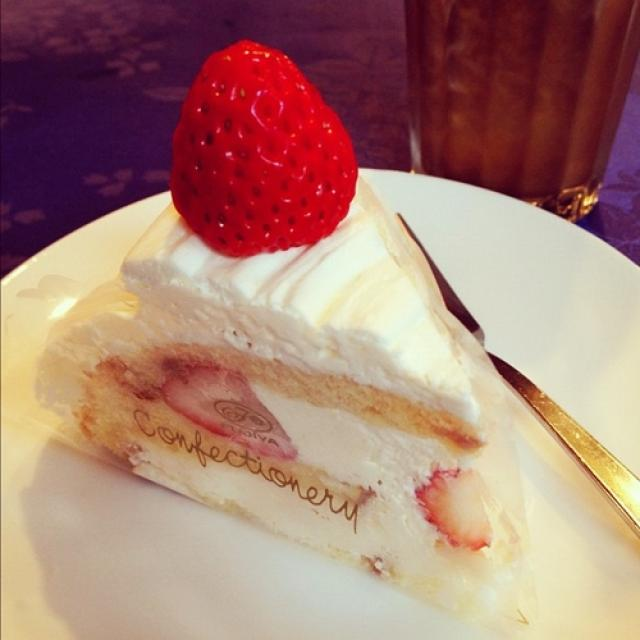蛋糕甜品: (33, 32, 617, 608)
